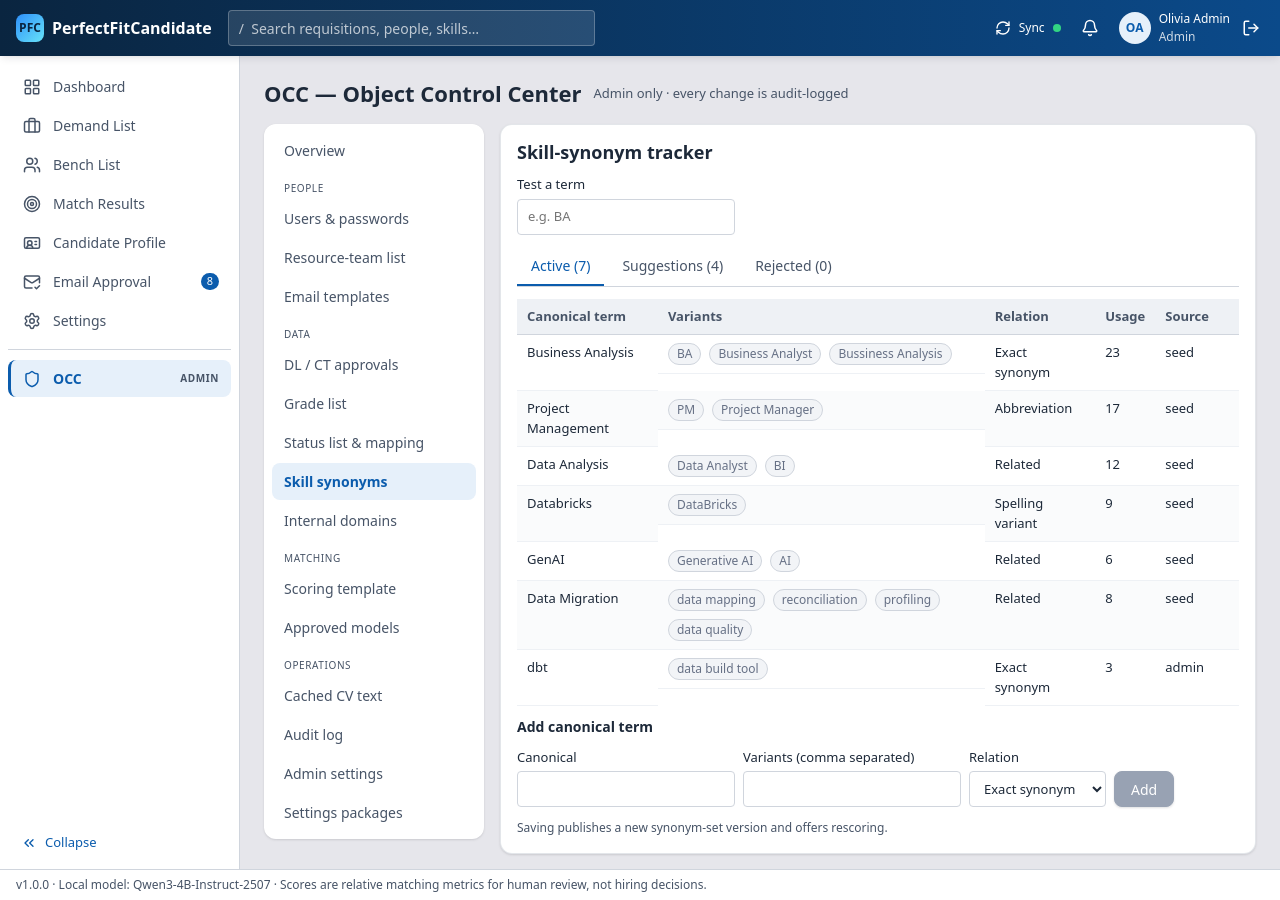
OCC skill suggestions › limits Select all and bulk add to the currently filtered rows
This screenshot has width=1280, height=900.
Later steps or results of the test are not shown.
Click the tab "Suggestions (4)".
click(673, 266)  # box [608, 246, 737, 286]
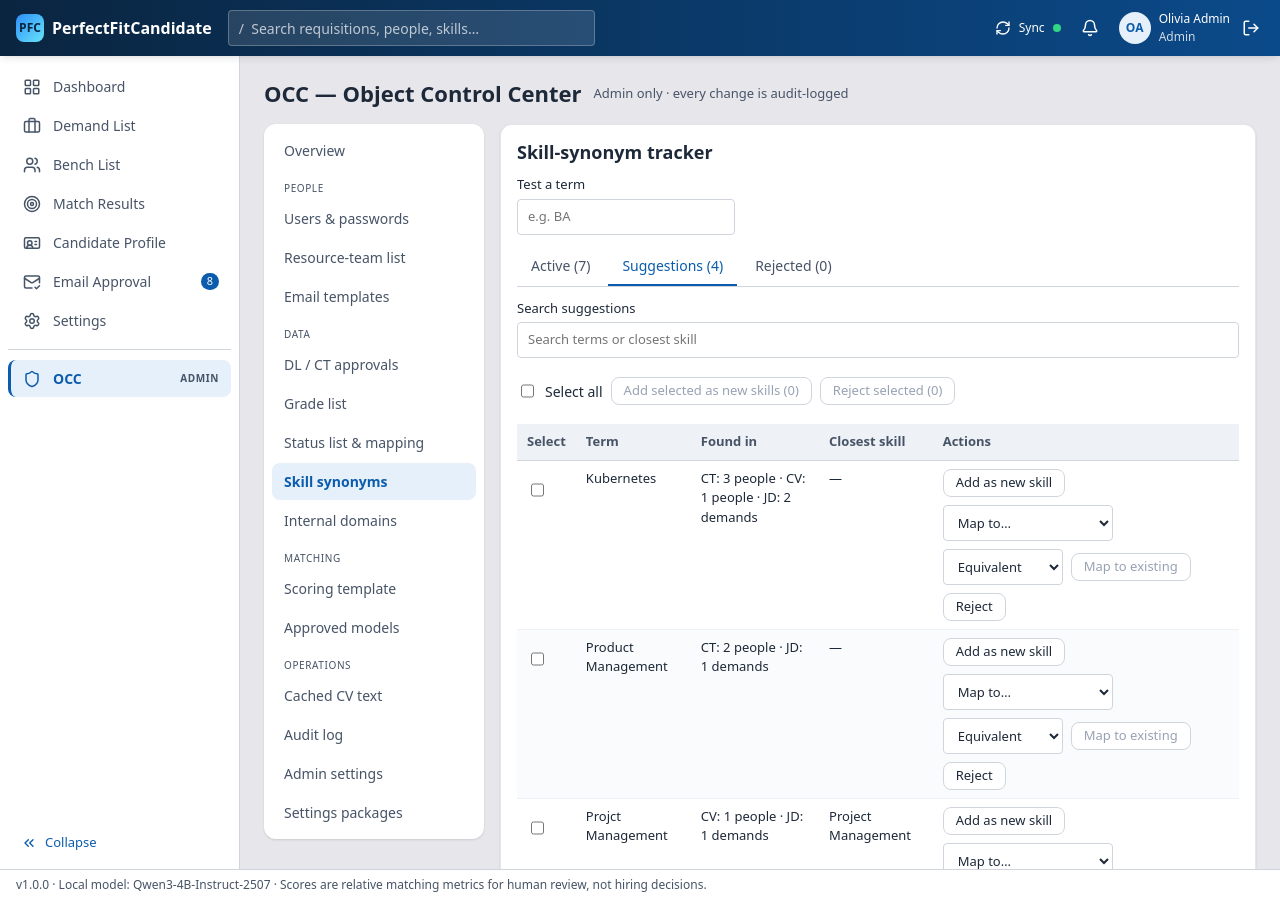
Expected: the table is shown, [517, 424, 1239, 869]
Type "SQL Server" into the field labelled "Search suggestions".
click(878, 340); type("SQL Server")  # box [517, 322, 1239, 358]
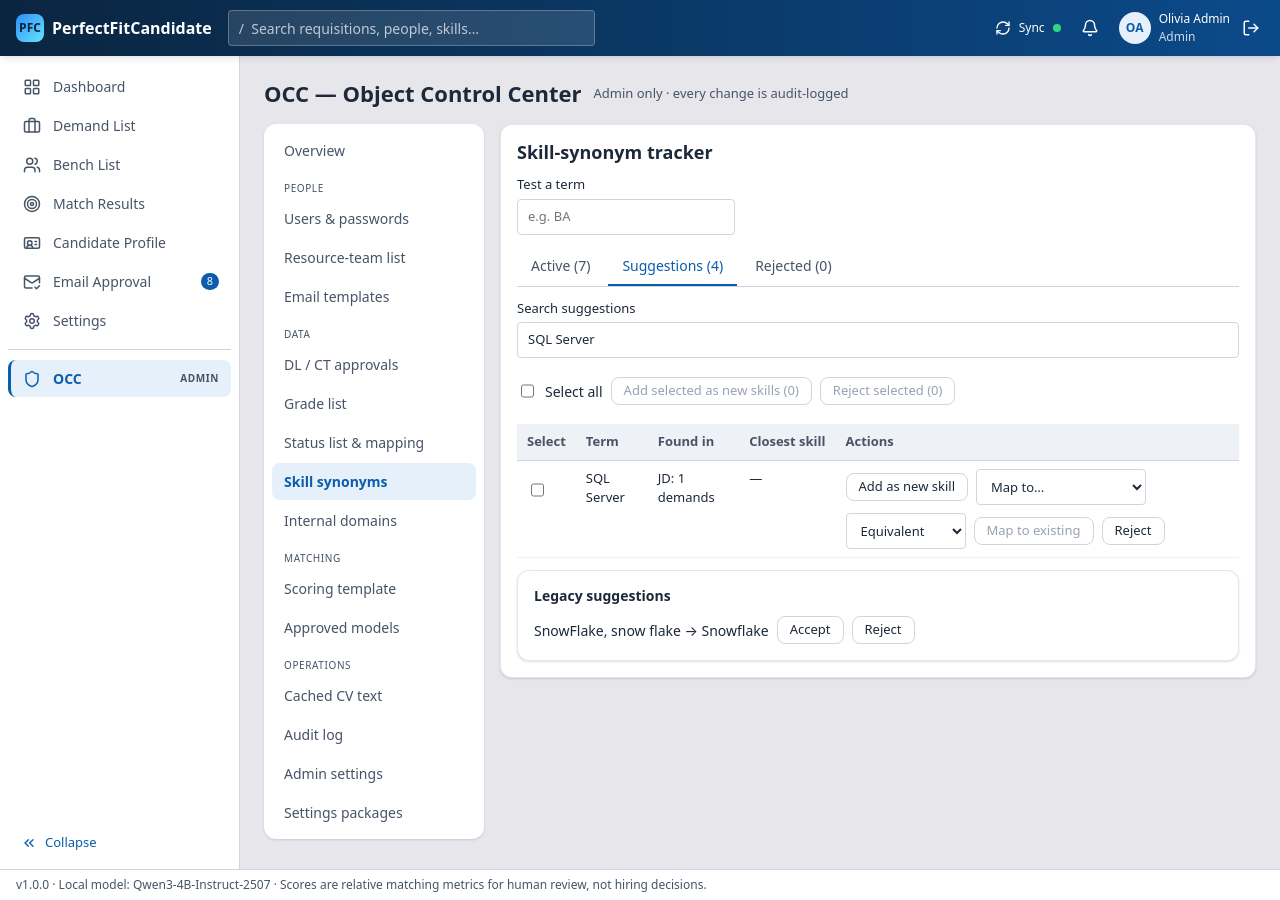
Now the text "JD: 1 demands" is shown, box [648, 460, 739, 558]
Now the row "SQL Server" is shown, box [517, 460, 1239, 558]
Now the cell "Kubernetes" is gone
